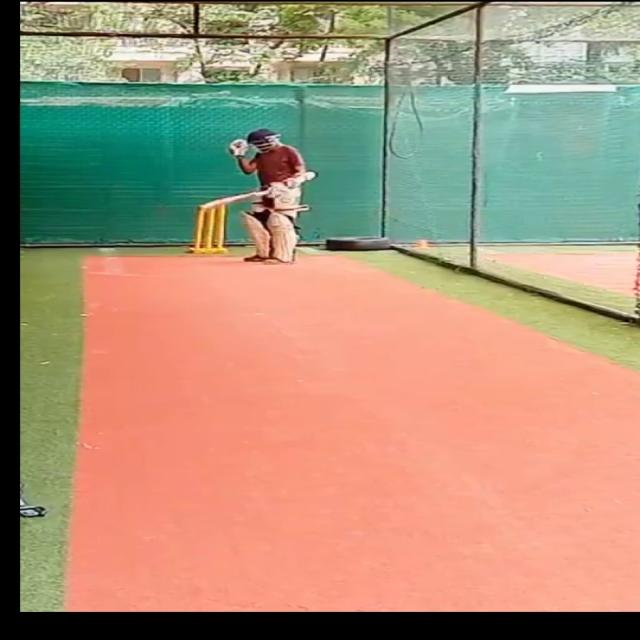stump: (188, 205, 226, 253)
